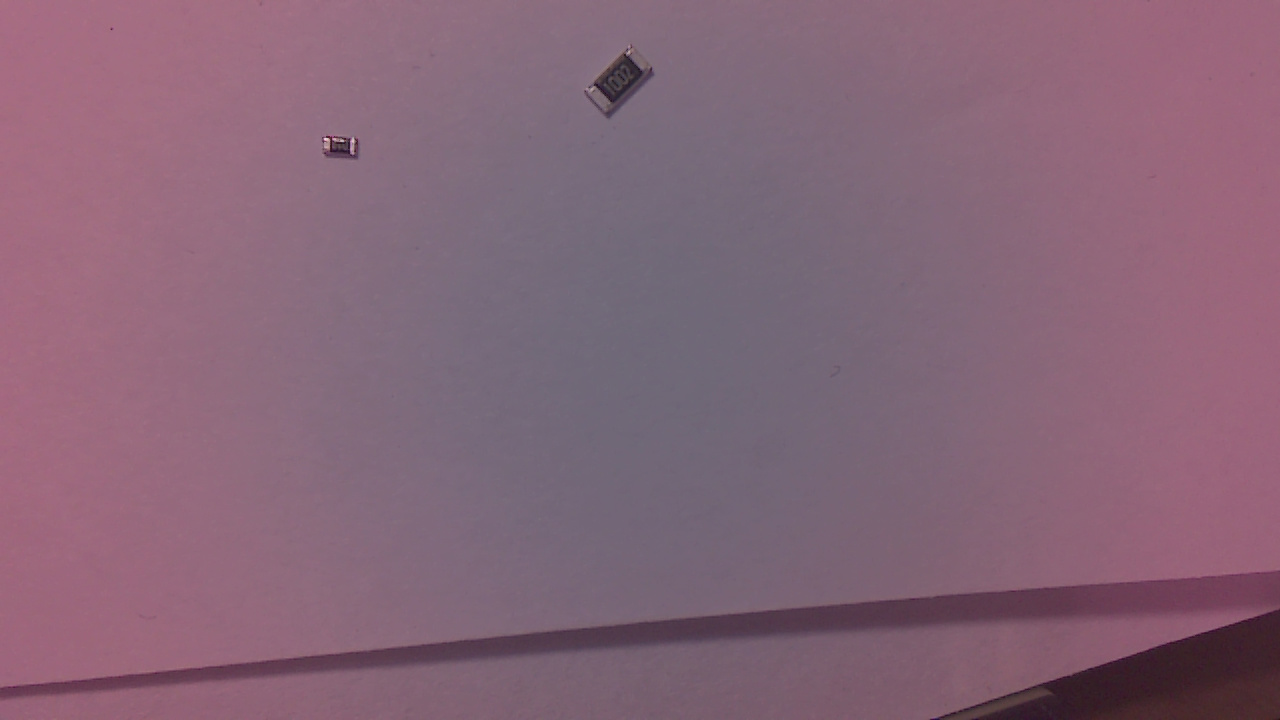Resistor: (586, 49, 662, 126), (325, 139, 365, 165)
